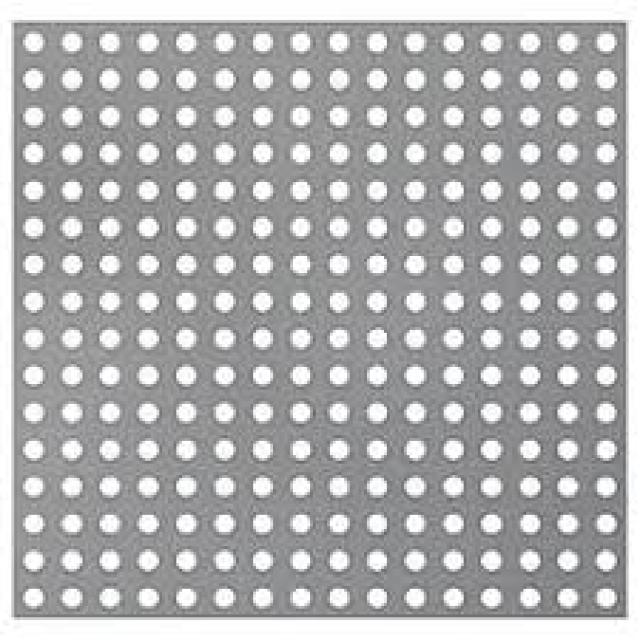Dry: (14, 20, 629, 620)
